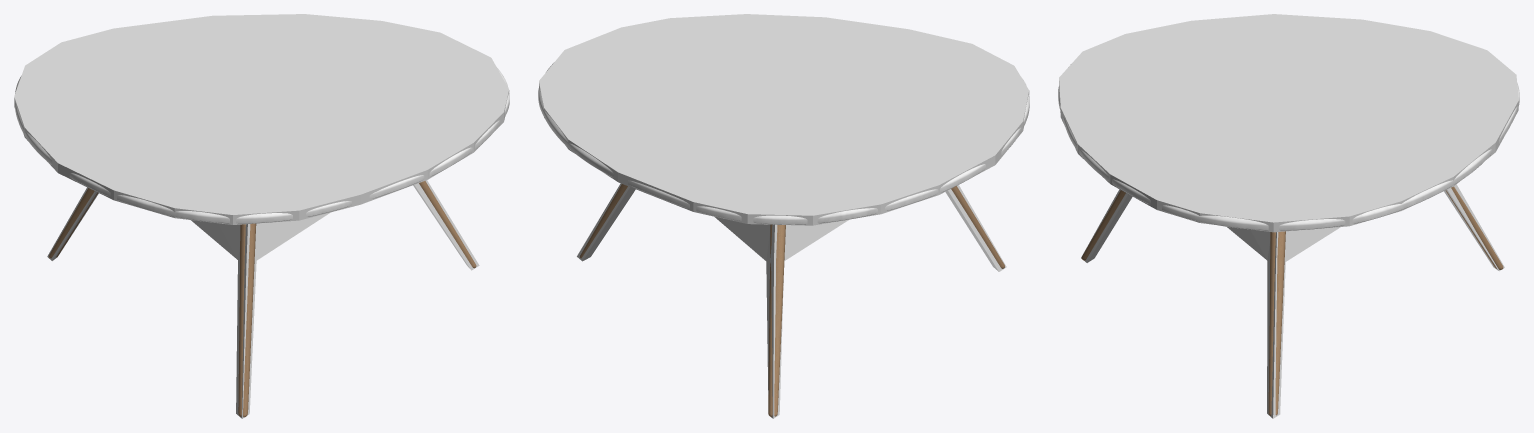
Rendered from Table_1.1.fbx.
The picture shows the model from 3 angles, left to right: view 1: azimuth 30°, elevation 25°; view 2: azimuth 150°, elevation 25°; view 3: azimuth 270°, elevation 25°; orthographic projection.
Visible parts, largest first — view 1: Table_mash_1.0, Table_1.0; view 2: Table_mash_1.0, Table_1.0; view 3: Table_mash_1.0, Table_1.0.
Boxes of the visible parts, x1,y1,x2,y2 form: Table_mash_1.0: (14,14,509,418); Table_1.0: (15,68,509,417); Table_mash_1.0: (539,14,1029,418); Table_1.0: (538,63,1029,416); Table_mash_1.0: (1059,14,1518,418); Table_1.0: (1058,64,1519,415).
Bounding box in the file's own units: 246 × 112 × 230.
